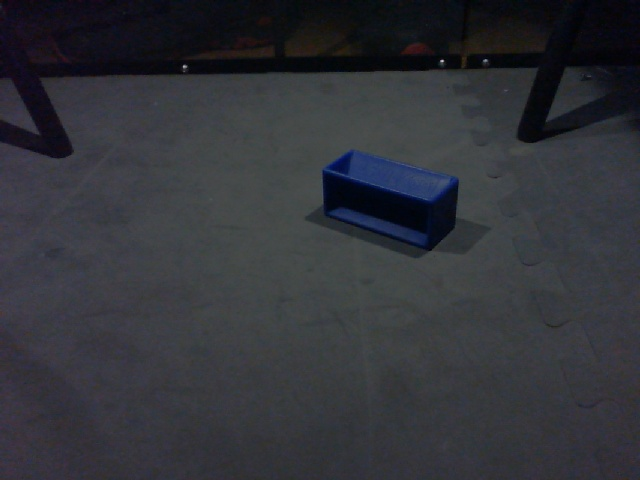BlueSample: (320, 146, 461, 255)
